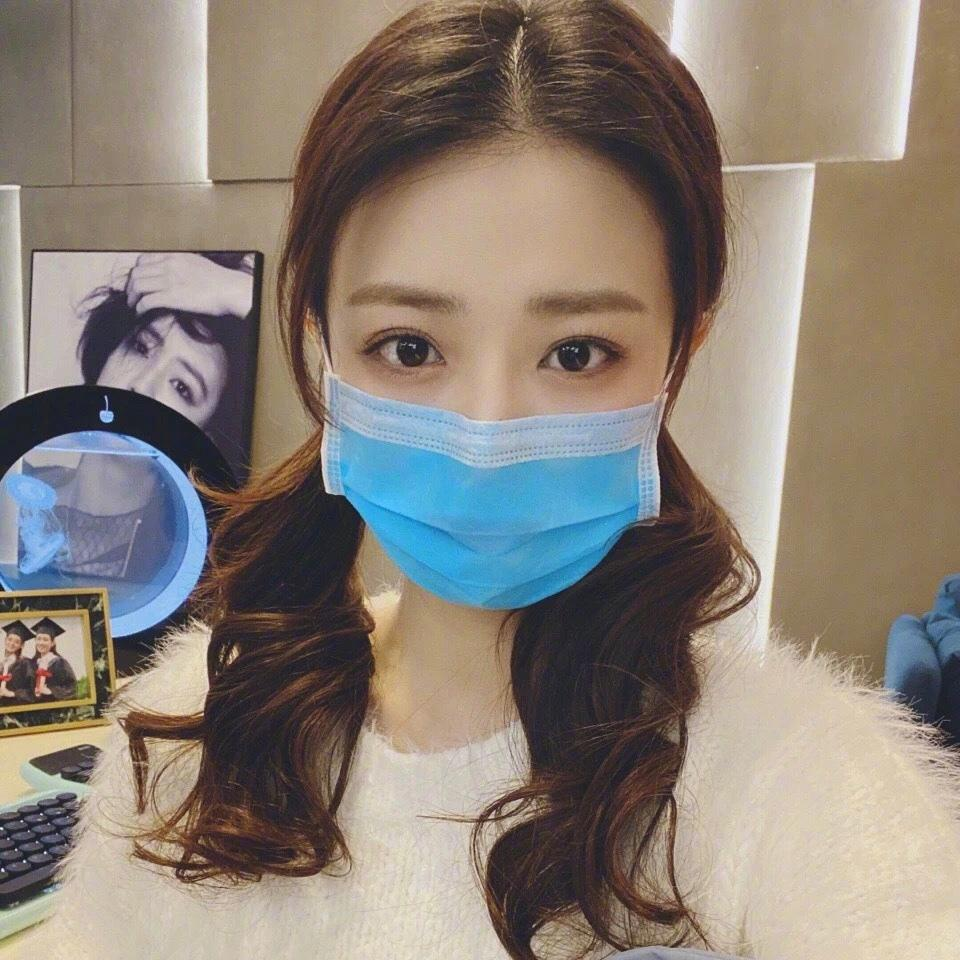NONE: (87, 310, 216, 454), (4, 634, 24, 656), (35, 632, 54, 654)
OK: (326, 222, 670, 604)
